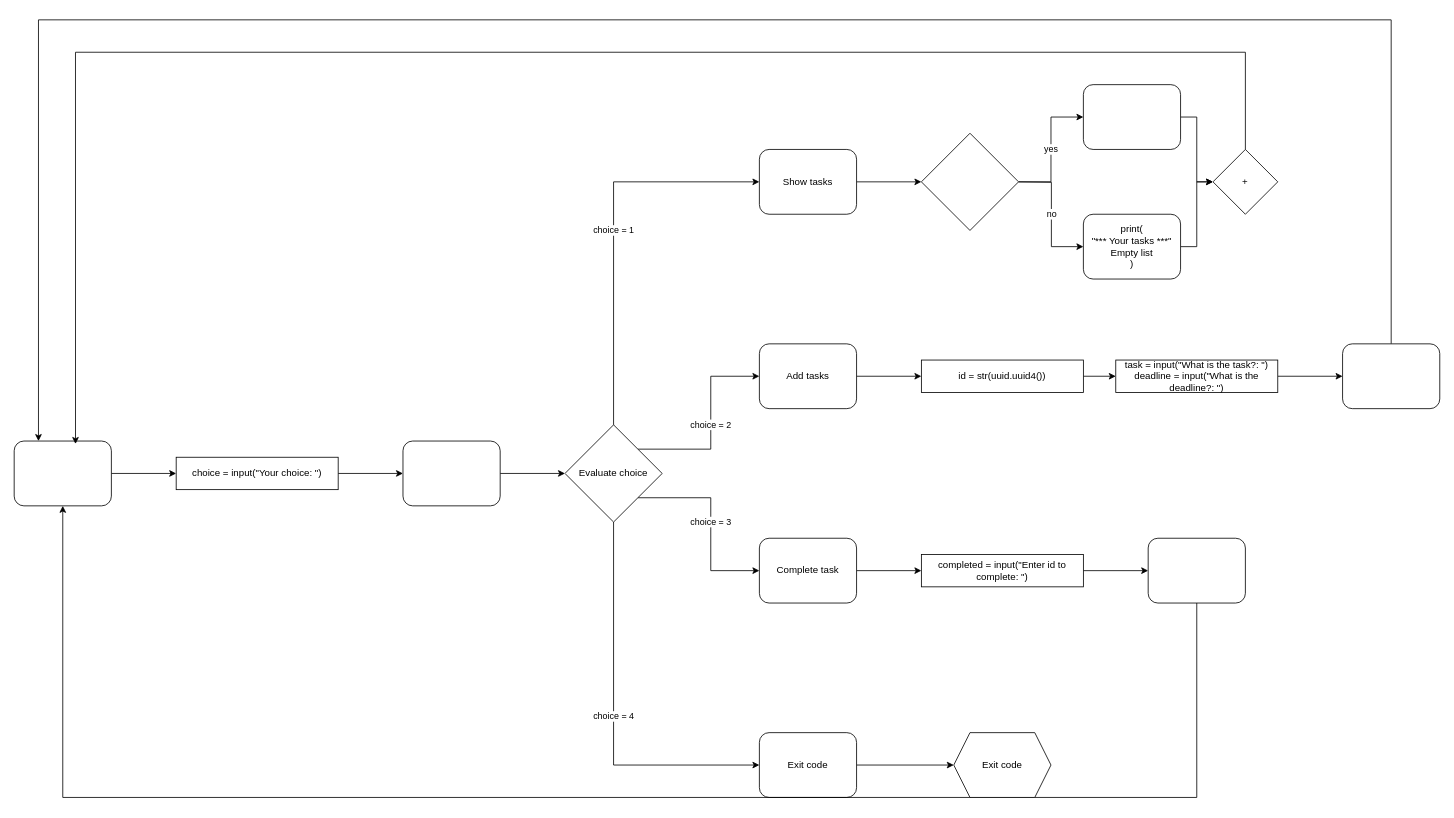
Image size: 1454x818. Some labels were removed from this diagram. Here are the shapes that lost their labels. From the top down, the box of each, then its label:
(1083, 84, 1181, 149): print( "*** Your tasks ***" task_id | name | deadline )
(921, 132, 1019, 230): Are there tasks to show?
(1342, 343, 1440, 409): add to text file so that: id, task, deadline Use mode "a"
(13, 440, 111, 506): Display options
(402, 440, 500, 506): Have try/except loop to catch exceptions
(1147, 537, 1245, 603): Remove entire line from file with id == completed
